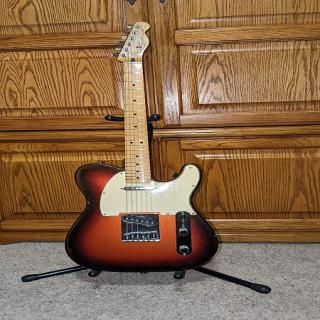Fender Telecaster: (63, 22, 223, 276)
SS: (119, 182, 166, 238)
